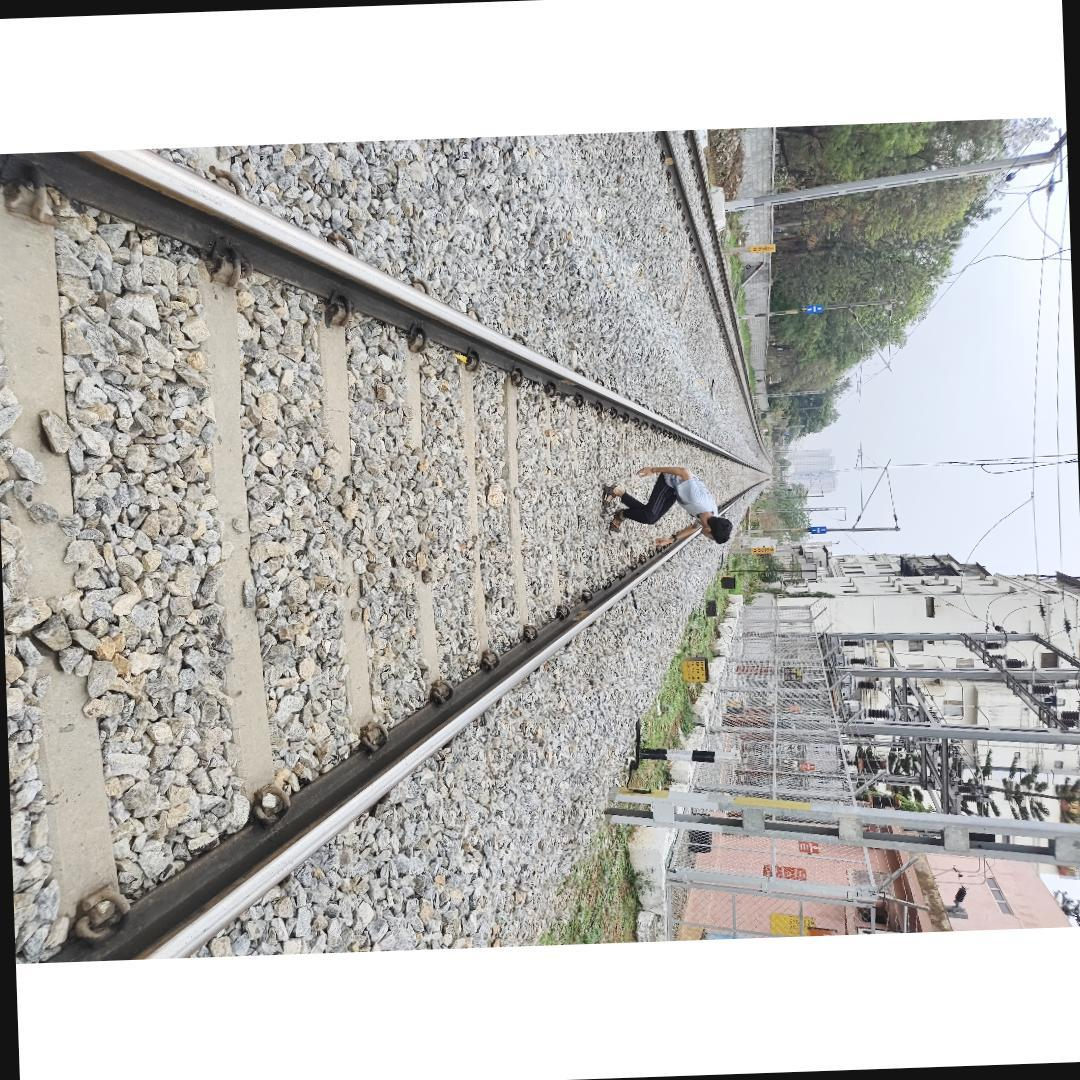standing: (600, 461, 734, 550)
track: (0, 149, 777, 964)
